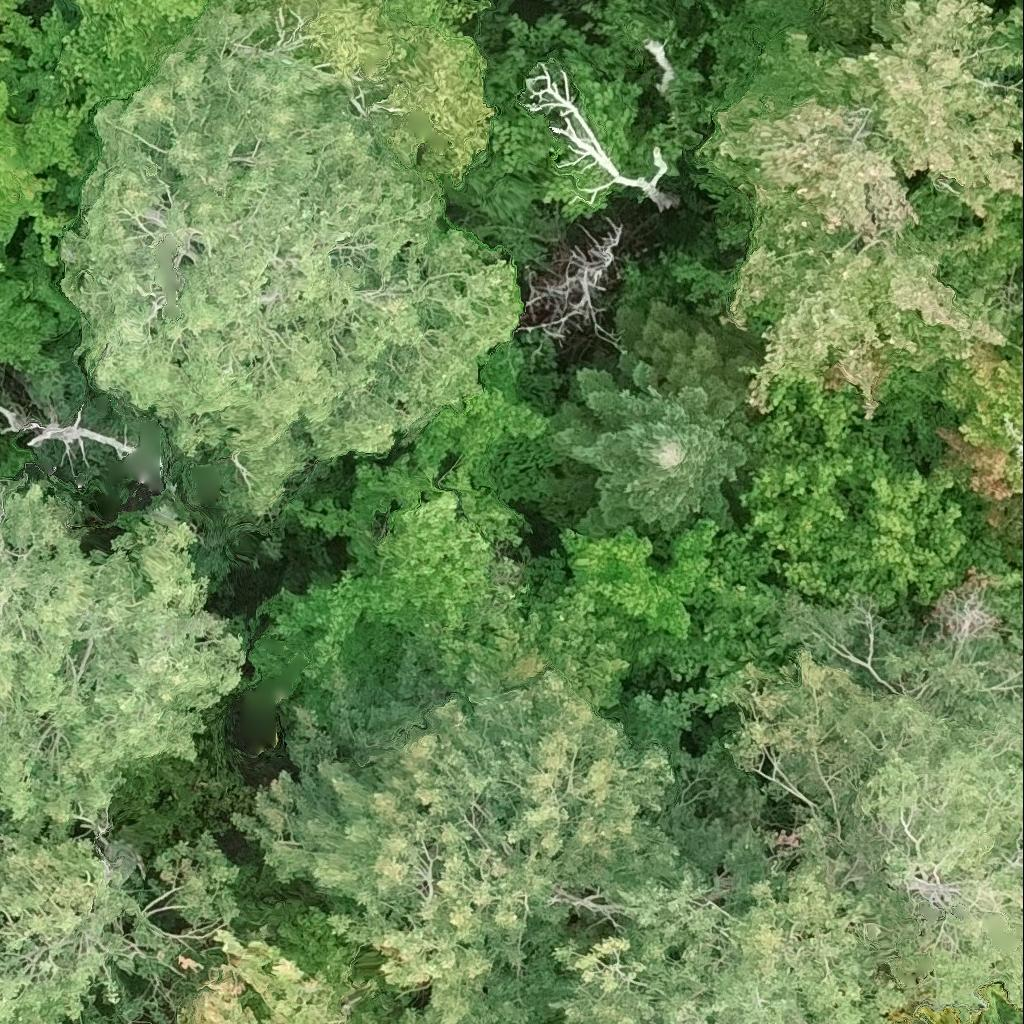crown: (225, 668, 686, 1023), (729, 586, 1023, 1023), (622, 818, 903, 1023), (543, 298, 760, 556), (0, 827, 239, 1023), (170, 904, 404, 1023), (638, 525, 794, 678), (398, 915, 616, 1023), (859, 464, 1014, 605), (730, 375, 895, 504), (743, 485, 903, 608), (358, 490, 498, 623), (550, 912, 708, 1023), (979, 545, 1023, 599), (995, 607, 1023, 629), (89, 1021, 104, 1023)
